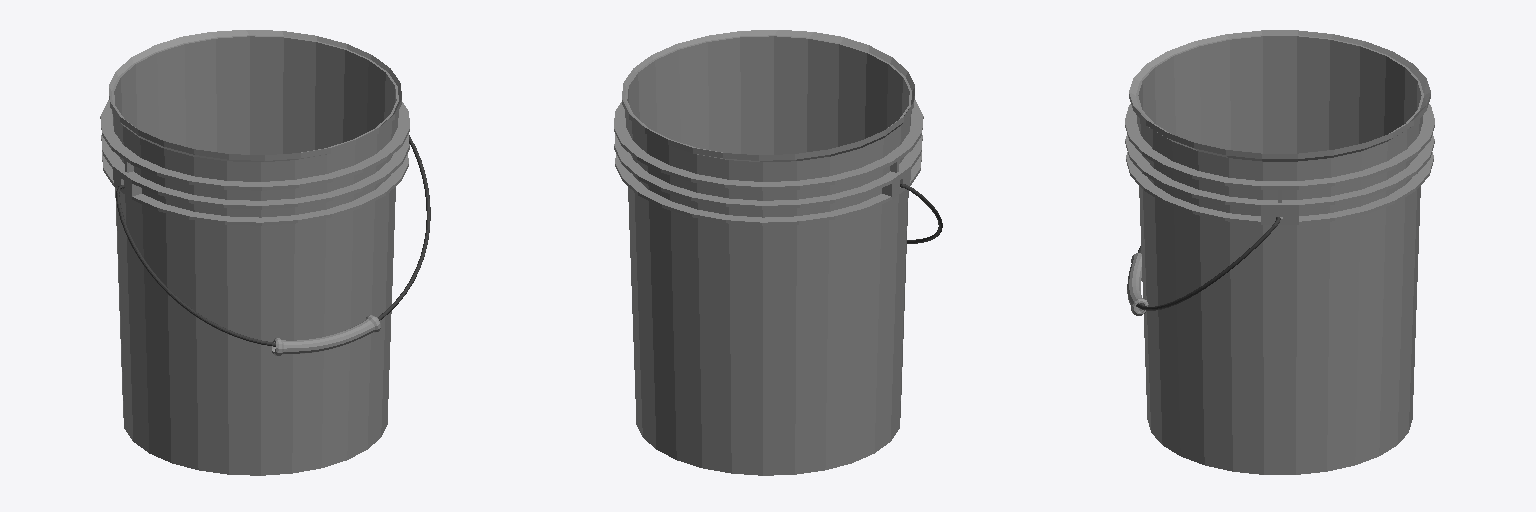
File: bucket.obj
The picture shows the model from 3 angles: view 1: azimuth 30°, elevation 25°; view 2: azimuth 150°, elevation 25°; view 3: azimuth 270°, elevation 25°; orthographic projection.
Bounding box in the file's own units: 174 × 184 × 158.